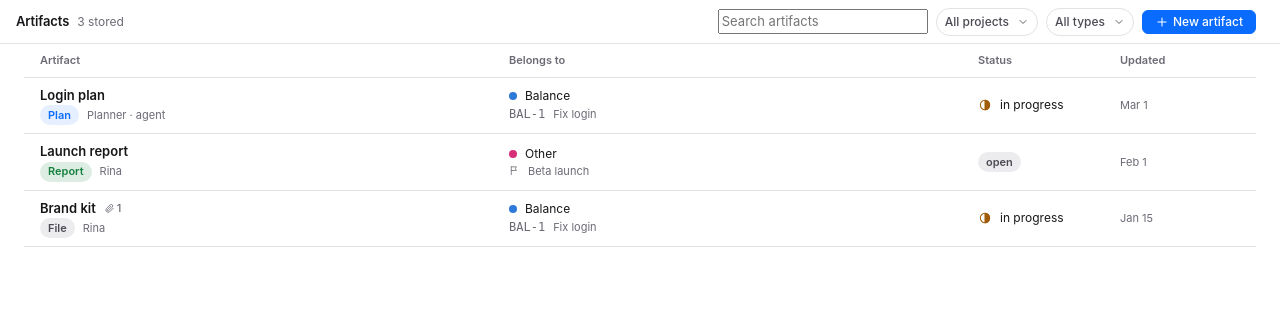
Test: Artifacts list › asks before deleting, and deletes only on the red Delete
The width and height of the screenshot is (1280, 326).
Later steps or results of the test are not shown.
Step 1. Right-click the element with class "arow" that starts with "Login plan" → (640, 106), box [24, 78, 1256, 134]
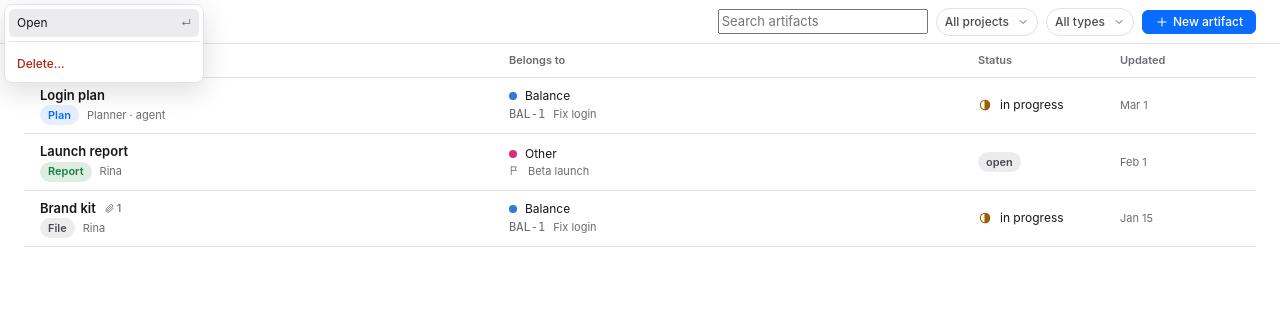
Step 2. Click the menu item "Delete…" → (104, 64), box [9, 50, 199, 78]
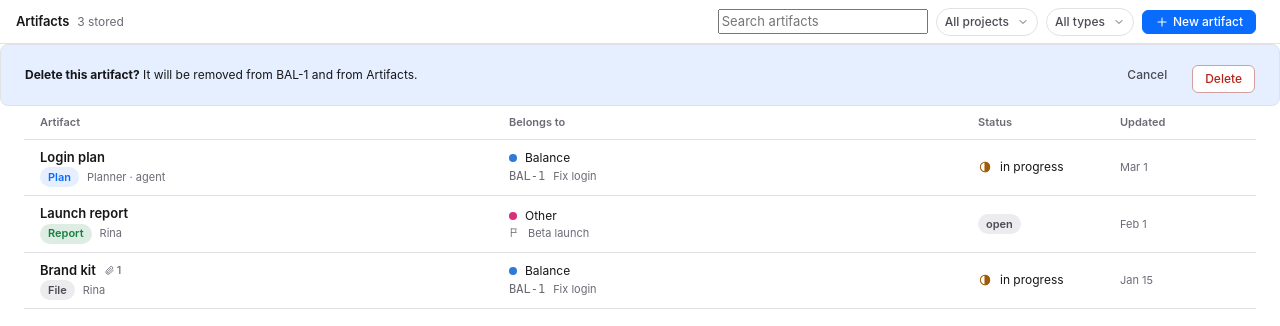
Check: the message shows "Delete this artifact?", box [25, 67, 140, 82]
Check: the message shows "BAL-1", box [276, 67, 308, 82]
Step 3. Click the button "Cancel" → (1147, 75), box [1114, 61, 1180, 89]
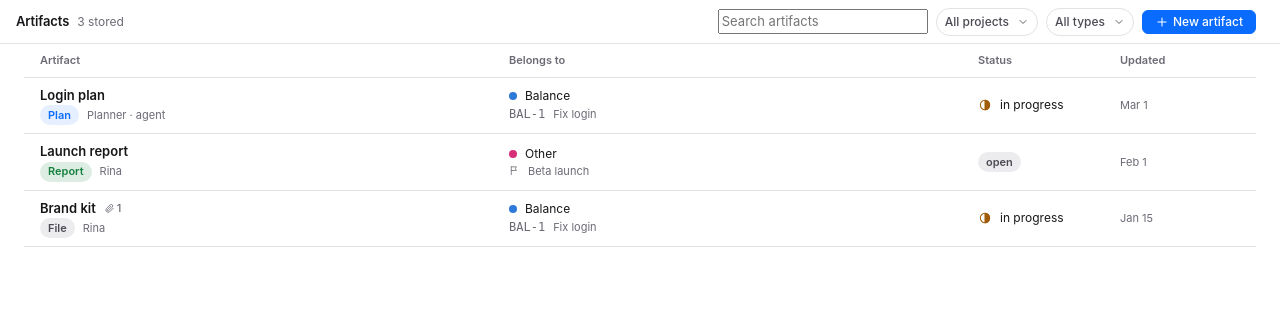
Check: the message is gone
